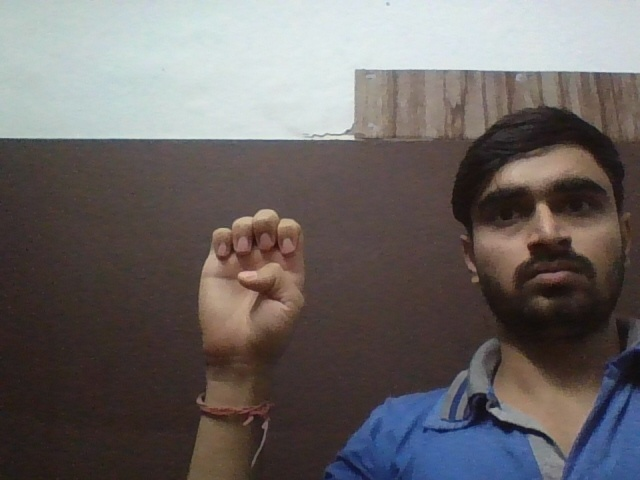E: (185, 207, 337, 360)
